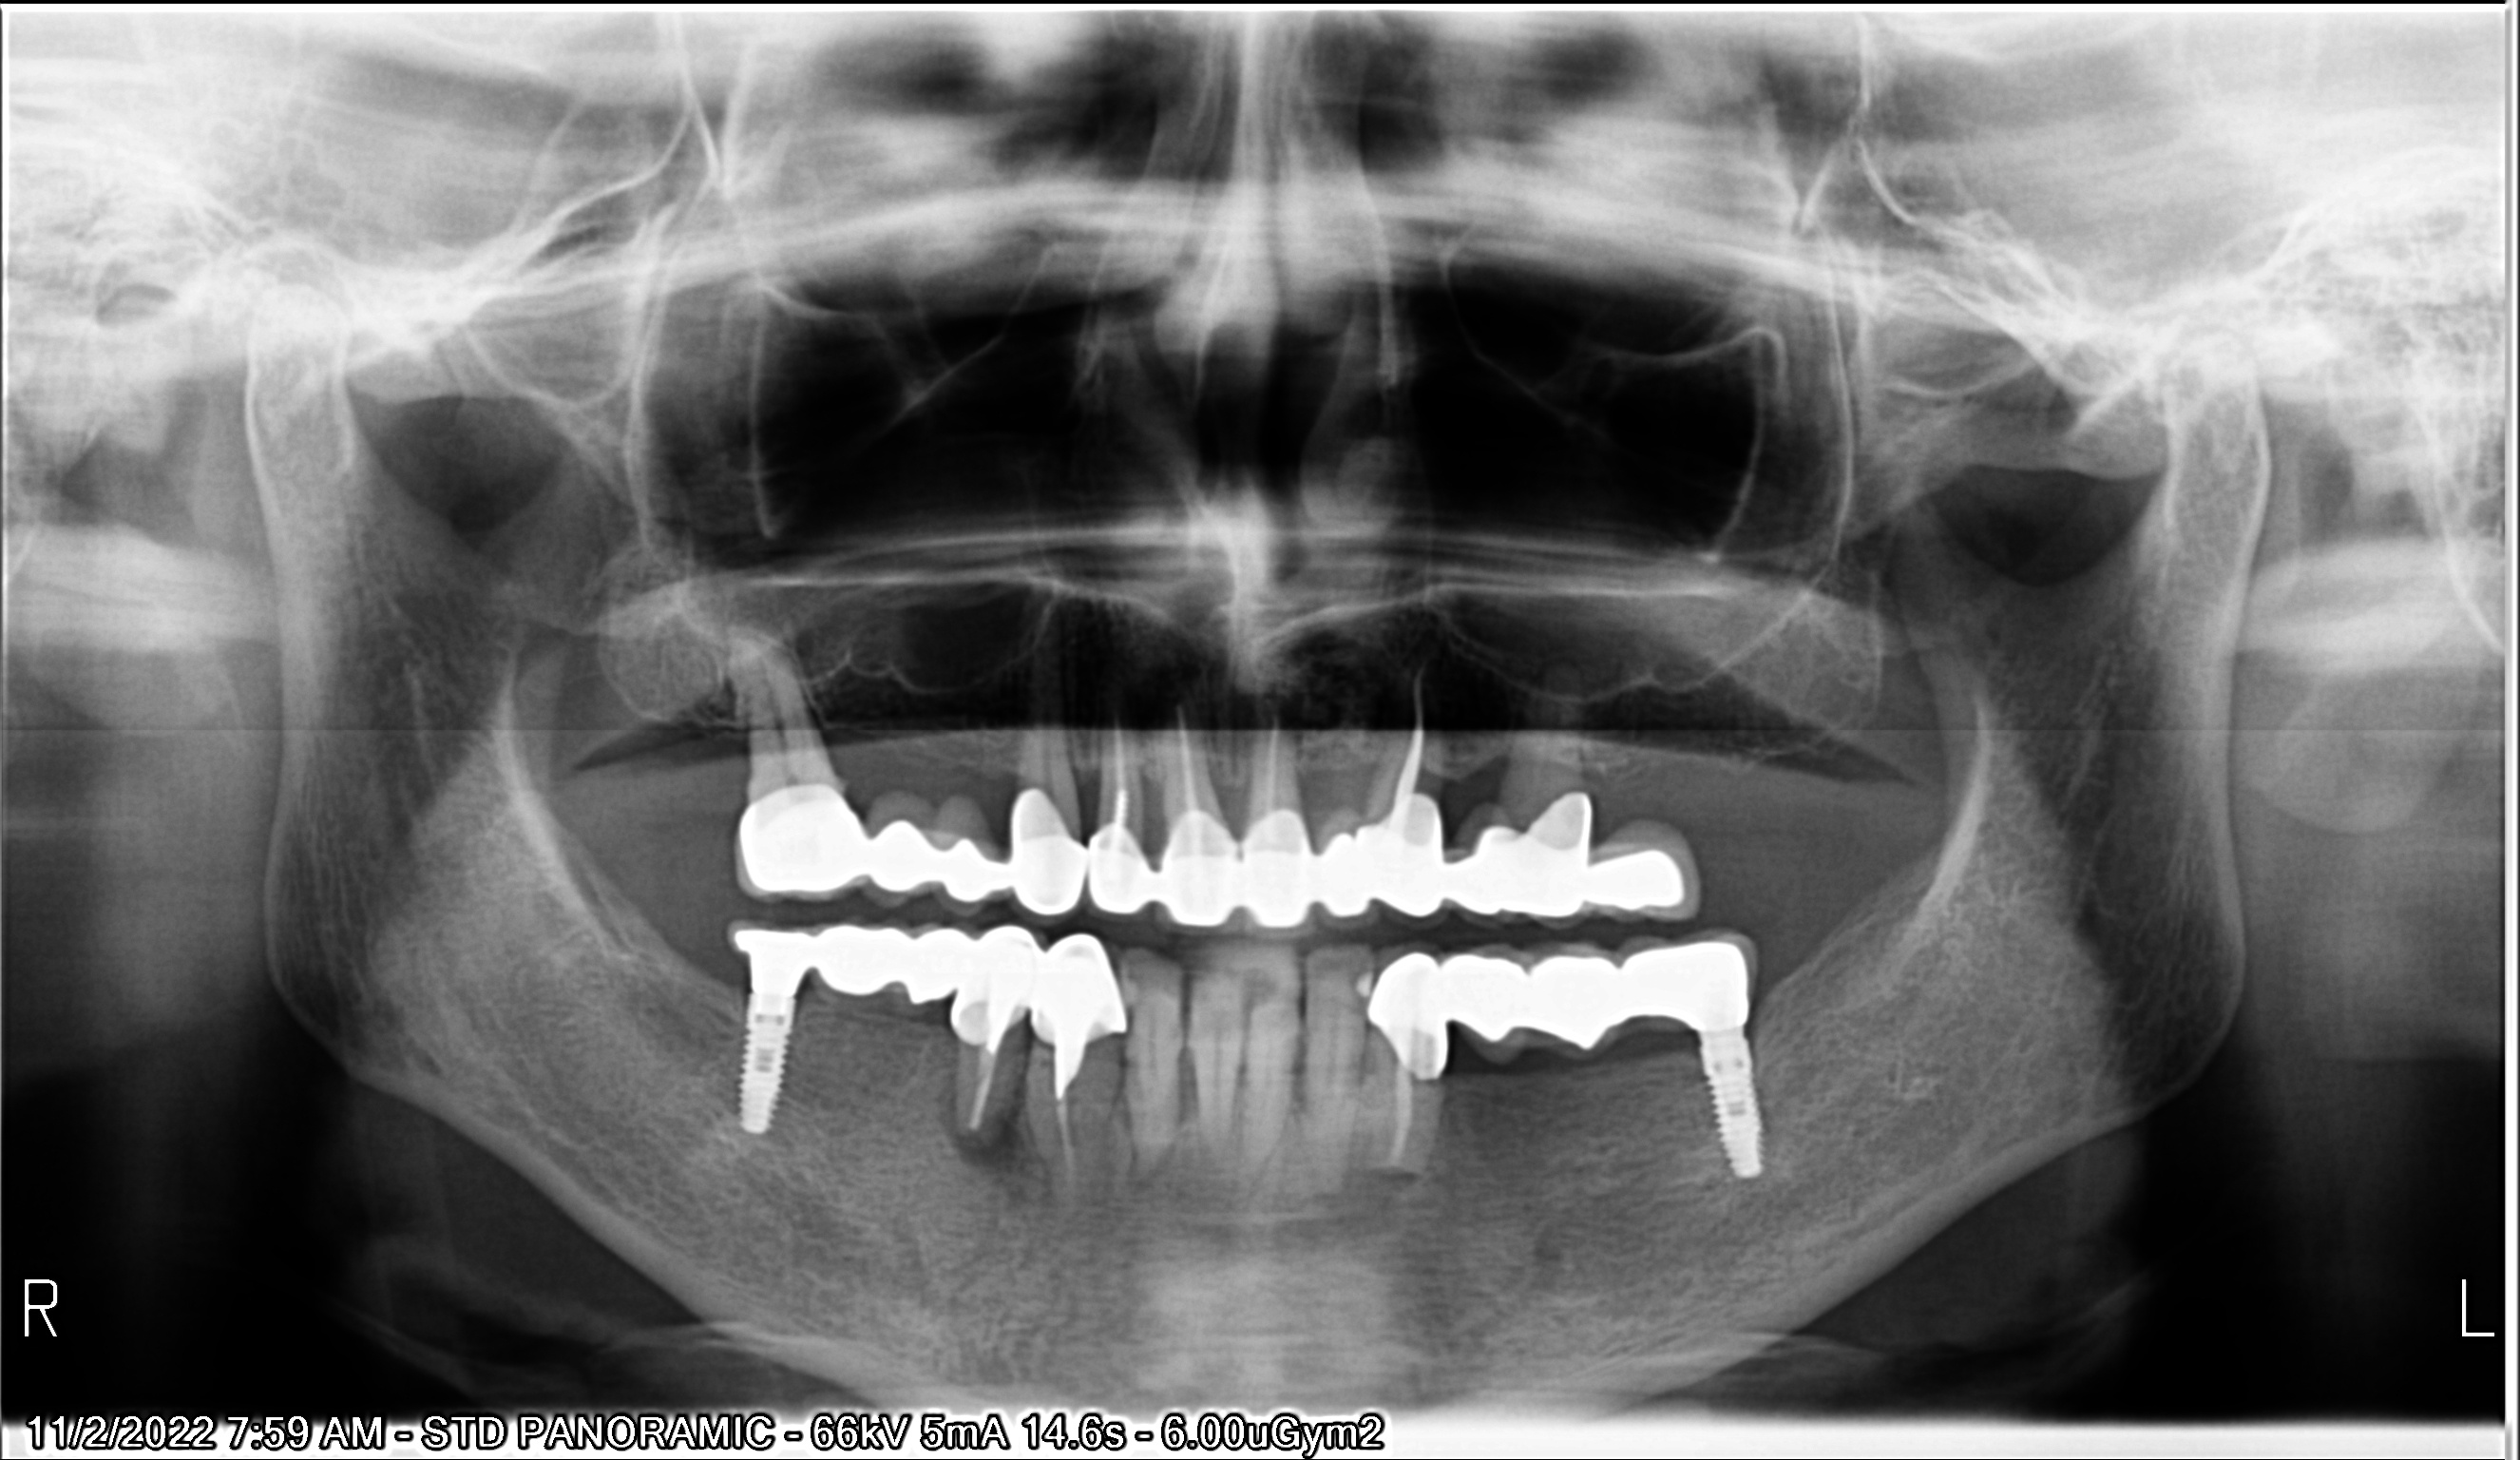API: (940, 1112, 1021, 1199)
APS: (1349, 1151, 1433, 1241)
BON: (790, 685, 917, 794), (1447, 716, 1528, 813), (1155, 1036, 1209, 1147)
END: (1028, 1043, 1103, 1224), (1369, 647, 1447, 798), (945, 1024, 1030, 1149), (1360, 1055, 1433, 1196), (1237, 674, 1304, 822), (1084, 713, 1143, 833), (1160, 693, 1214, 824)
IMP: (709, 984, 813, 1163), (1678, 1024, 1775, 1208)
PRR: (710, 777, 1716, 946), (689, 892, 1136, 1064), (1363, 933, 1778, 1074)
